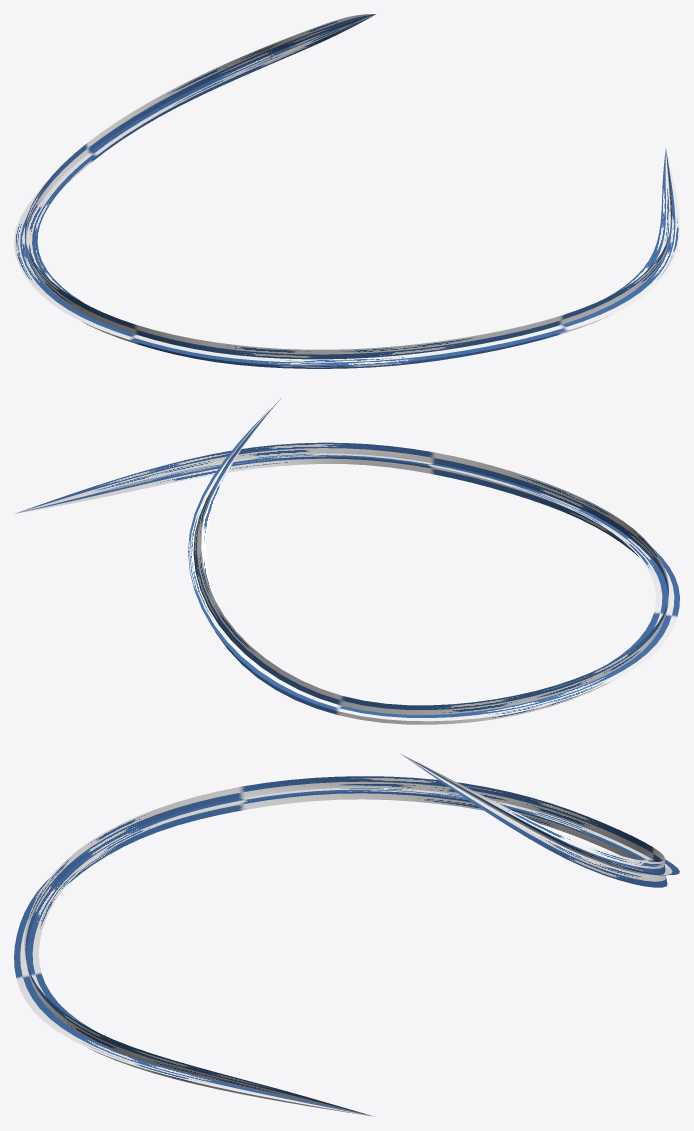
The model's file is Rui_Skl3Line3.fbx.
3 renders of one model, top to bottom at view 1: azimuth 30°, elevation 25°; view 2: azimuth 150°, elevation 25°; view 3: azimuth 270°, elevation 25°, orthographic. The views are drawn at different scales.
Parts seen in each view (by area): view 1: SM_e_Plc_P1007_Skil3_Line003; view 2: SM_e_Plc_P1007_Skil3_Line003; view 3: SM_e_Plc_P1007_Skil3_Line003.
Part boxes in pixels (x1,y1,x2,y2): SM_e_Plc_P1007_Skil3_Line003: [14, 14, 679, 368]; SM_e_Plc_P1007_Skil3_Line003: [14, 397, 679, 724]; SM_e_Plc_P1007_Skil3_Line003: [14, 754, 679, 1116].
Bounding box in the file's own units: 468 × 146 × 394.
